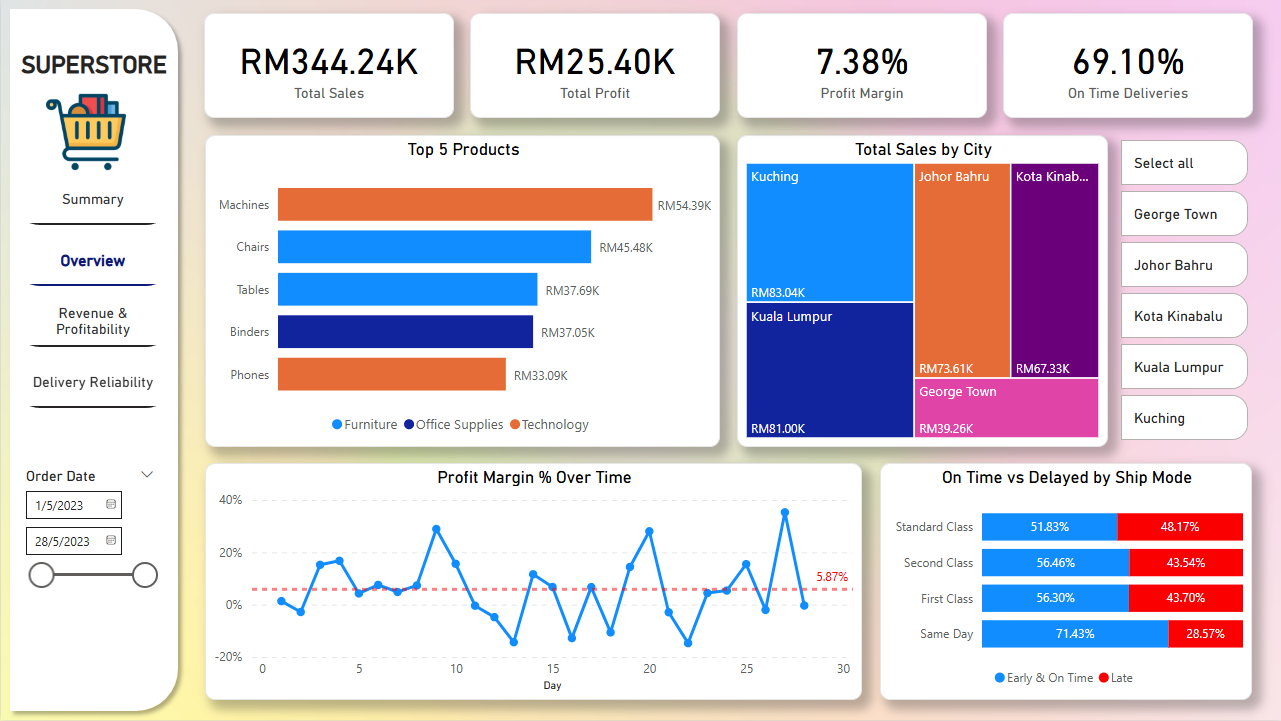

What the dashboard file says about the page in this screenshot:
{"tool":"powerbi","page":{"name":"Overview","canvas":[1280,720],"ordinal":1},"visuals":[{"type":"card","fields":{"Values":["Sum(Orders.Sales)"]},"box":[203.2,13.3,250,105],"z":0},{"type":"barChart","title":"Top 5 Products","fields":{"Y":["Sum(Orders.Sales)"],"Category":["Product.Sub-Category"],"Series":["Product.Category"]},"box":[203.6,135.5,515.5,311.8],"z":1000},{"type":"treemap","title":"Total Sales by City","fields":{"Group":["Location.City"],"Values":["Sum(Orders.Sales)"]},"box":[736.4,135.5,370.9,311.8],"z":2000},{"type":"lineChart","title":"Profit Margin % Over Time","fields":{"Category":["Orders.Order Date.Variation.Date Hierarchy.Day"],"Y":["Orders.Profit Margin %"]},"box":[203.8,462.5,657.5,237.5],"z":3000},{"type":"card","fields":{"Values":["Sum(Orders.Profit)"]},"box":[468.8,13.3,250,105],"z":4000},{"type":"card","fields":{"Values":["Orders.Profit Margin %"]},"box":[736.2,13.3,250,105],"z":5000},{"type":"card","fields":{"Values":["Shipping.% On Time Deliveries"]},"box":[1001.8,13.3,250,105],"z":6000},{"type":"hundredPercentStackedBarChart","title":"On Time vs Delayed by Ship Mode","fields":{"Category":["Shipping.Ship Mode"],"Y":["CountNonNull(Orders.Order ID)"],"Series":["Shipping.On Time (Group)"]},"box":[878.8,462.5,372.5,237.5],"z":7000},{"type":"shape","box":[0,0,186.2,720],"z":8000},{"type":"textbox","box":[0,28.8,171.2,58.8],"z":9000},{"type":"slicer","fields":{"Values":["Orders.Order Date"]},"box":[11.8,462.7,152.7,198.2],"z":10000},{"type":"advancedSlicerVisual","fields":{"Values":["Location.City"]},"box":[1115.5,135.5,136.4,311.8],"z":11000},{"type":"image","box":[40.4,87.1,89.8,89.8],"z":12000},{"type":"pageNavigator","box":[12.6,174.2,158.9,234.3],"z":13000}]}

Visuals, with their boxes in screenshot pixels (x1, y1, x2, y2), scaled from the page's 1280x720 canvas onto the 1281x721 screenshot:
card - Sum(Orders.Sales): [x1=203, y1=13, x2=454, y2=118]
"Top 5 Products" barChart: [x1=204, y1=136, x2=720, y2=448]
"Total Sales by City" treemap: [x1=737, y1=136, x2=1108, y2=448]
"Profit Margin % Over Time" lineChart: [x1=204, y1=463, x2=862, y2=701]
card - Sum(Orders.Profit): [x1=469, y1=13, x2=719, y2=118]
card - Orders.Profit Margin %: [x1=737, y1=13, x2=987, y2=118]
card - Shipping.% On Time Deliveries: [x1=1003, y1=13, x2=1253, y2=118]
"On Time vs Delayed by Ship Mode" hundredPercentStackedBarChart: [x1=879, y1=463, x2=1252, y2=701]
shape: [x1=0, y1=0, x2=186, y2=720]
textbox: [x1=0, y1=29, x2=171, y2=88]
slicer - Orders.Order Date: [x1=12, y1=463, x2=165, y2=662]
advancedSlicerVisual - Location.City: [x1=1116, y1=136, x2=1253, y2=448]
image: [x1=40, y1=87, x2=130, y2=177]
pageNavigator: [x1=13, y1=174, x2=172, y2=409]
